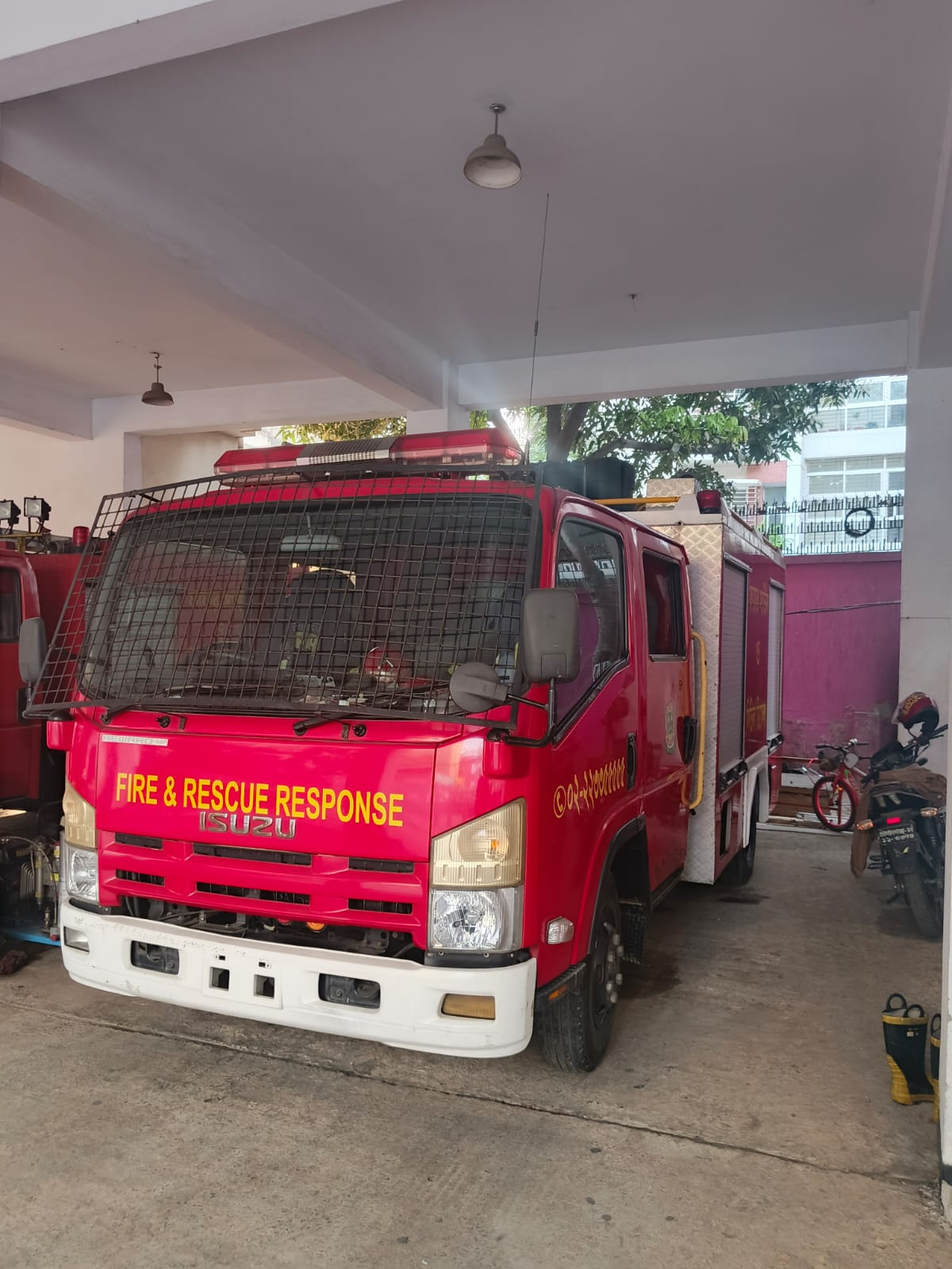Fire truck: (11, 426, 814, 1158)
